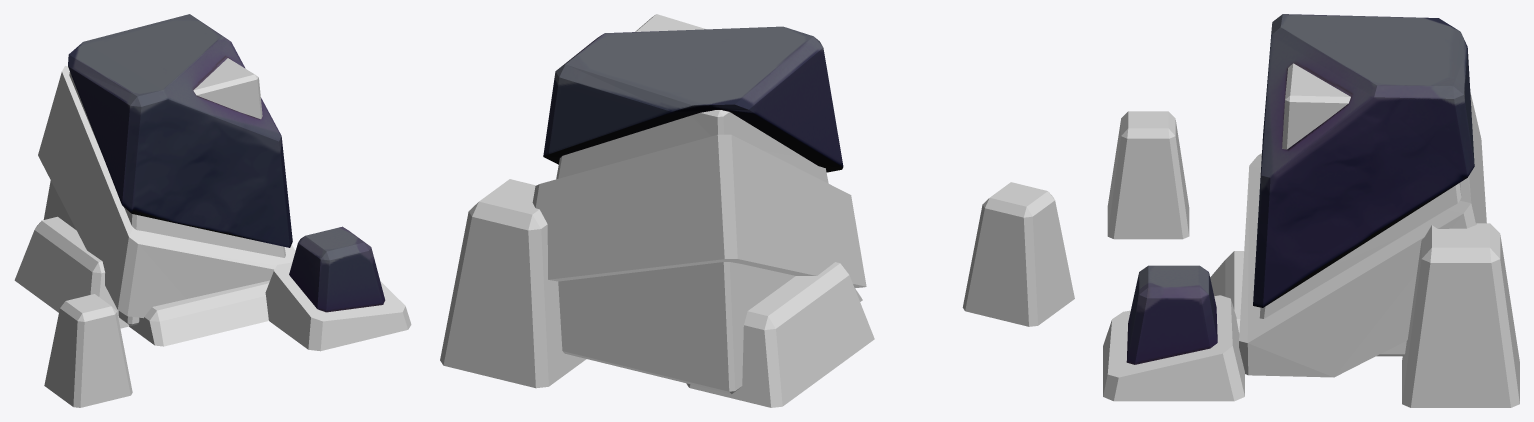
The model's file is Ore_C.fbx.
3 renders of one model, left to right at view 1: azimuth 30°, elevation 25°; view 2: azimuth 150°, elevation 25°; view 3: azimuth 270°, elevation 25°, orthographic. The views are drawn at different scales.
Parts seen in each view (by area): view 1: Ore_C; view 2: Ore_C; view 3: Ore_C.
Part boxes in pixels (<box>): Ore_C: <box>14,14,411,407</box>; Ore_C: <box>440,14,1074,407</box>; Ore_C: <box>1103,14,1519,407</box>.
Bounding box in the file's own units: 0.9982 × 0.6617 × 0.8939.
